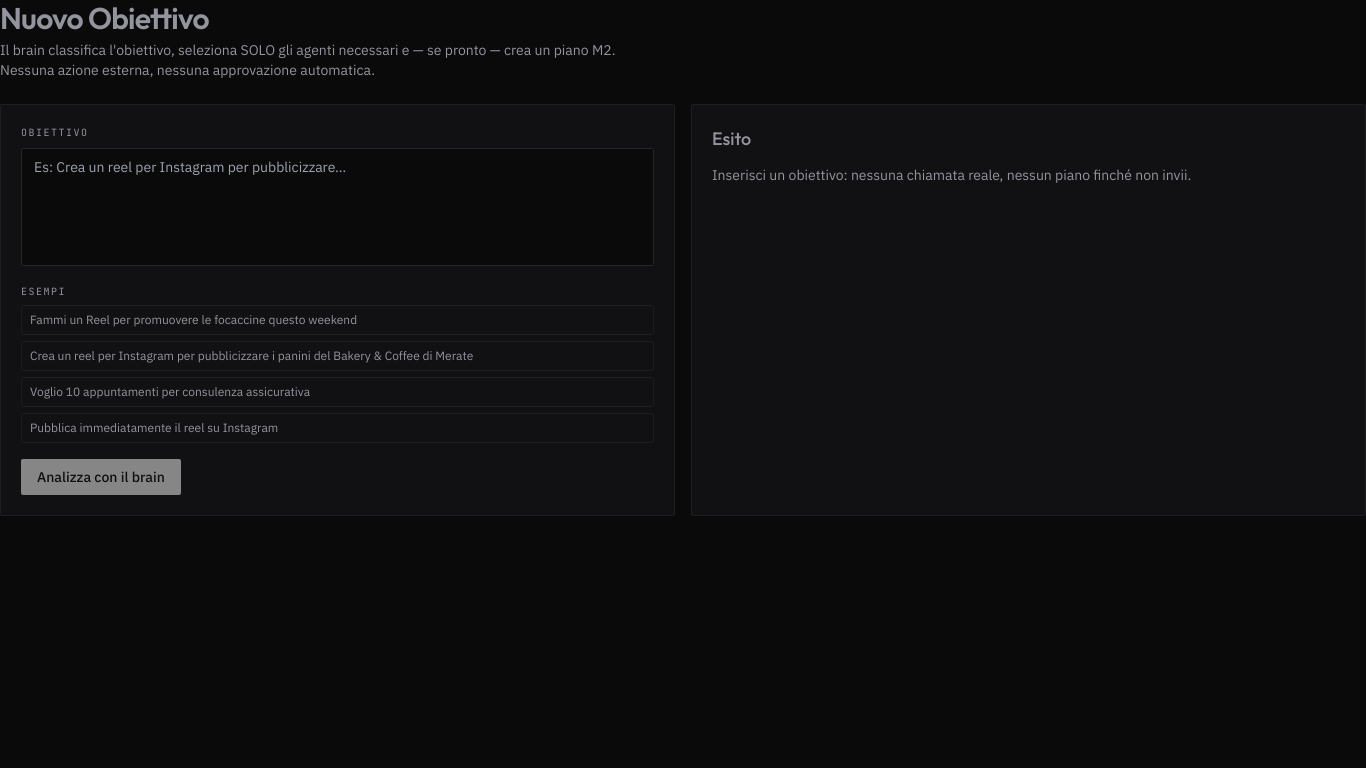
Test: NewGoal › mostra il fallback deterministico e il motivo quando l'LLM non e' disponibile
Type "Prepara una campagna" into the text box with test id "goal-input".
click(338, 207); type("Prepara una campagna")  # box [21,148,654,266]
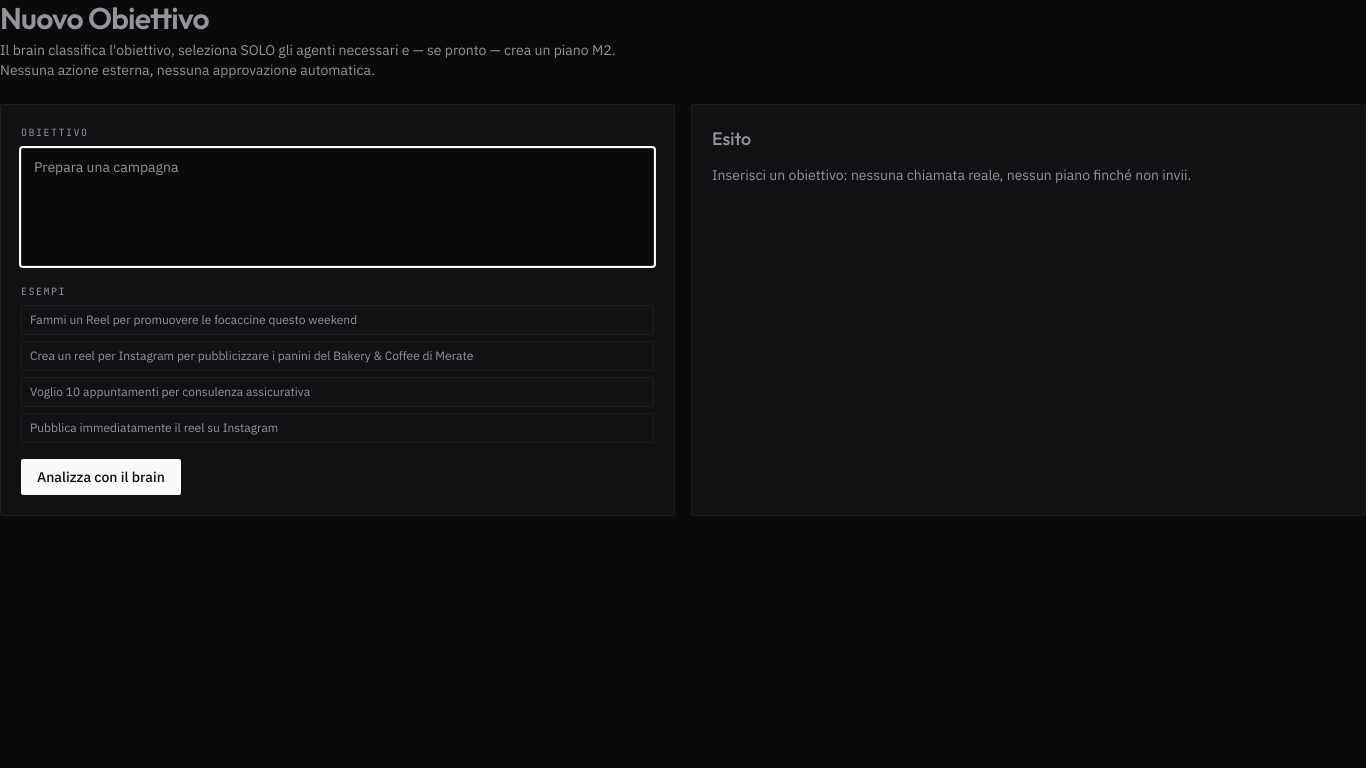
Click the button with test id "goal-classify".
click(101, 477)  # box [21,459,181,495]
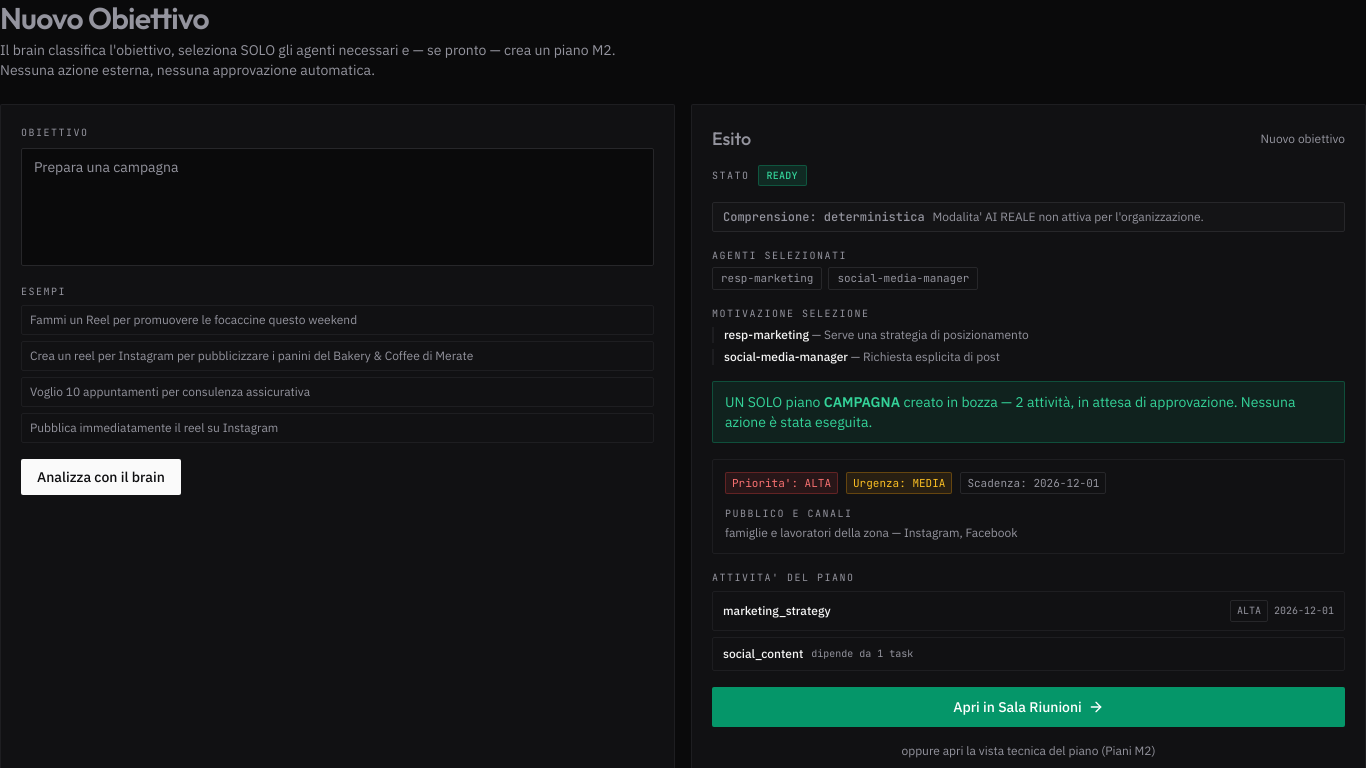
Now the text "READY" is shown, box [758,165,807,186]
Now the element with test id "llm-mode-badge" shows "deterministica", box [723,209,925,225]
Now the element with test id "llm-mode-badge" shows "Modalita' AI REALE non attiva", box [933,209,1204,224]
